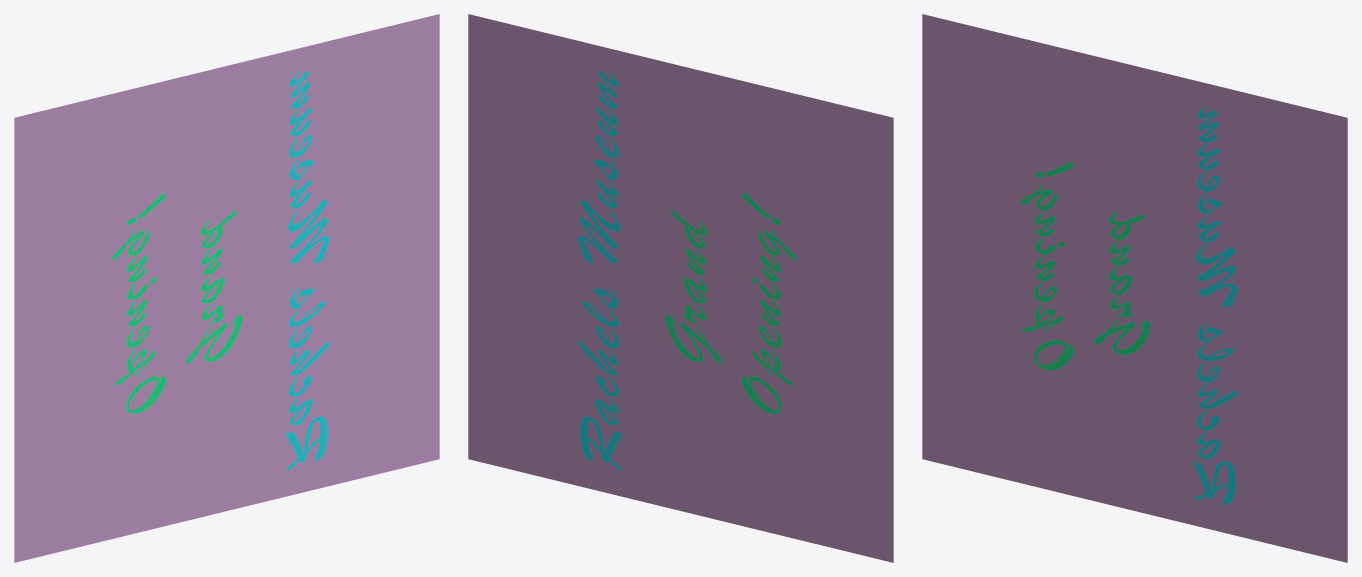
Rendered from Flag.glb.
3 views of the same model, side by side, from view 1: azimuth 30°, elevation 25°; view 2: azimuth 150°, elevation 25°; view 3: azimuth 330°, elevation 25° (orthographic).
Parts seen in each view (by area): view 1: Plane; view 2: Plane; view 3: Plane.
Boxes of the visible parts, x1,y1,x2,y2 form: Plane: (14, 14, 439, 562); Plane: (468, 14, 893, 562); Plane: (922, 14, 1347, 562).
Bounding box in the file's own units: 4.2 × 4.2 × 4.46e-07.
1 material, 1 textured.
